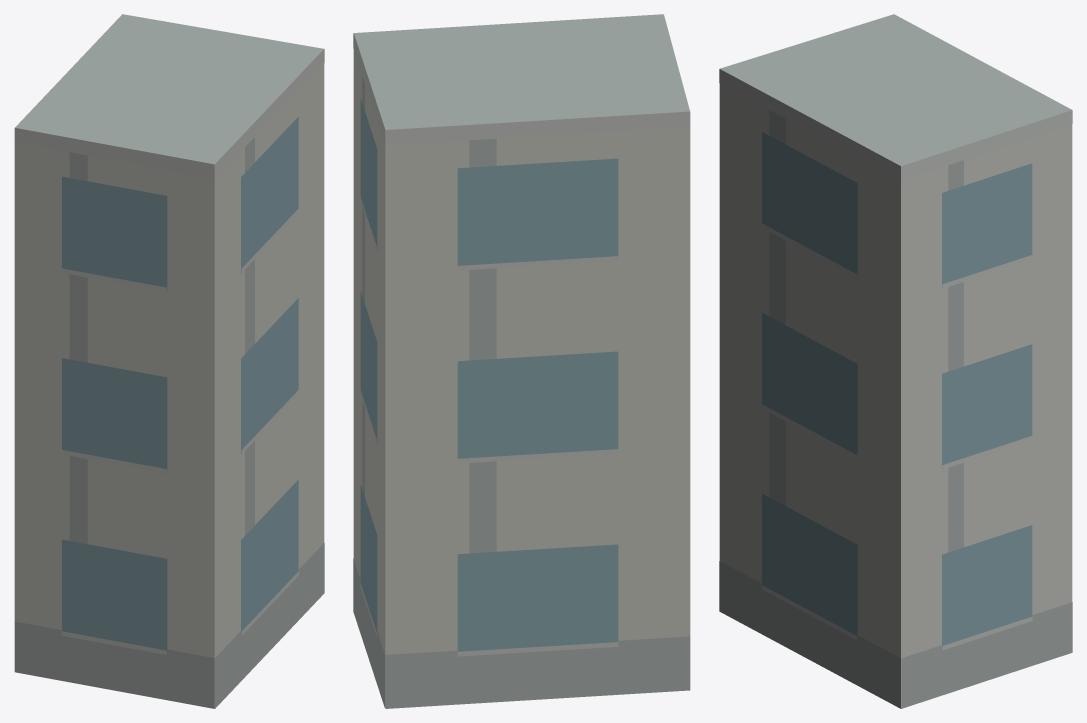
File: survey-upis-32644341.glb
The picture shows the model from 3 angles, left to right: view 1: azimuth 30°, elevation 25°; view 2: azimuth 150°, elevation 25°; view 3: azimuth 270°, elevation 25°; orthographic projection. The views are drawn at different scales.
Visible parts, largest first — view 1: survey-upis-32644341.tmp; view 2: survey-upis-32644341.tmp; view 3: survey-upis-32644341.tmp.
Part boxes in pixels (bbox=[...]): survey-upis-32644341.tmp: bbox=[14, 14, 324, 708]; survey-upis-32644341.tmp: bbox=[353, 14, 690, 708]; survey-upis-32644341.tmp: bbox=[719, 14, 1072, 708].
Size of the model in its own units: 5.51 by 9.15 by 5.4.
